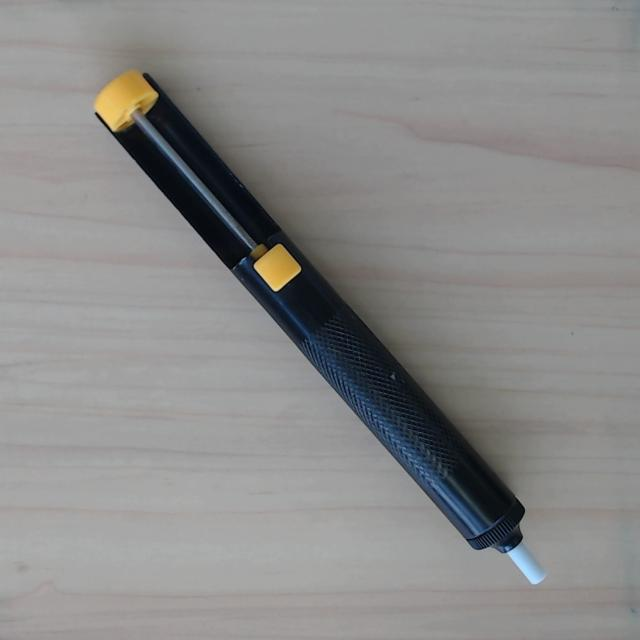Desoldering-Pump: (84, 59, 568, 602)
